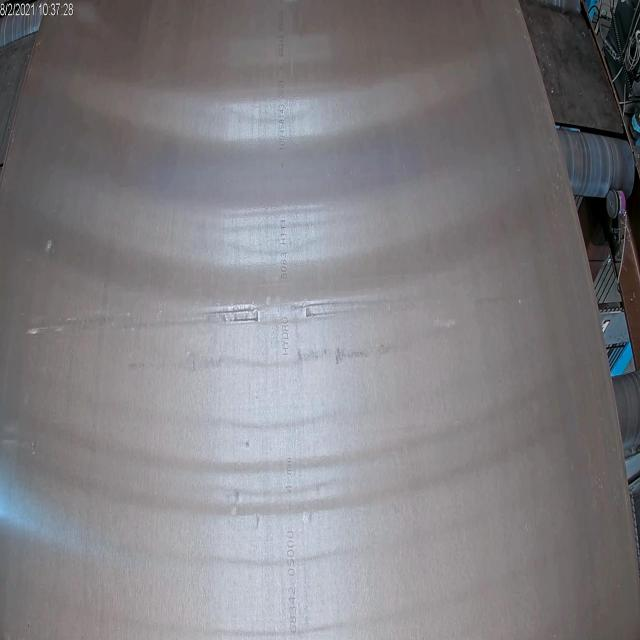ocr: (283, 525, 298, 636), (273, 81, 288, 158), (277, 214, 290, 282), (275, 8, 288, 70), (282, 452, 296, 506), (279, 312, 291, 367)
